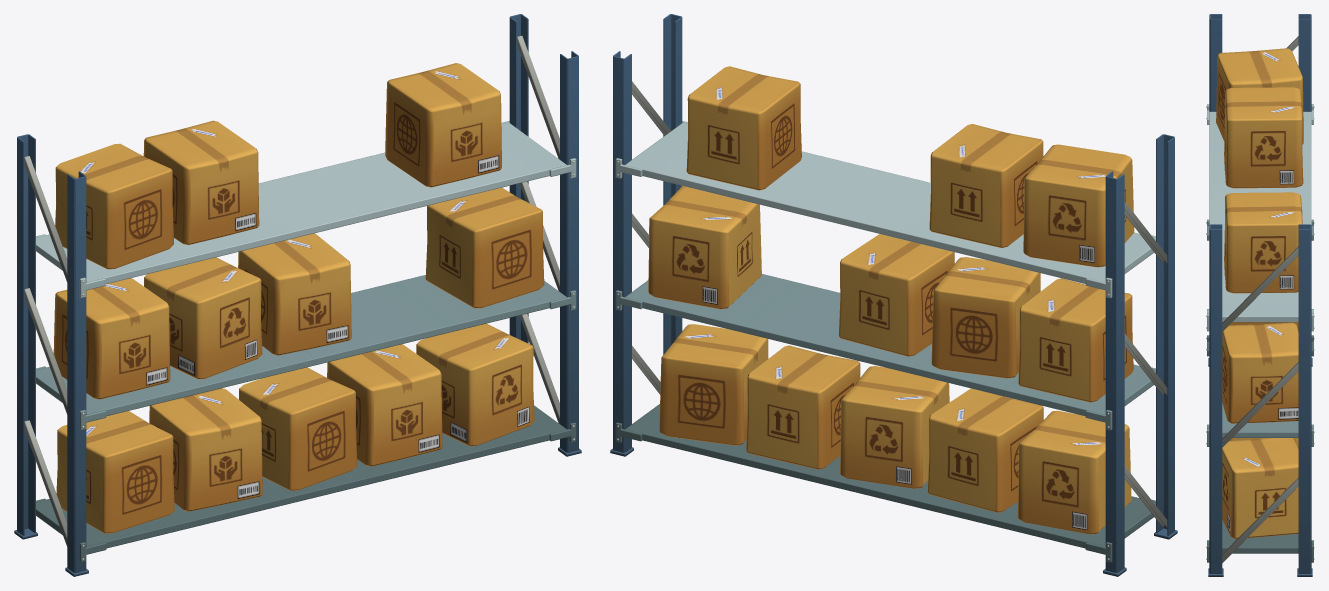
Rendered from SM_storage_rack_4x3_full.fbx.
3 views of the same model, side by side, from view 1: azimuth 30°, elevation 25°; view 2: azimuth 150°, elevation 25°; view 3: azimuth 270°, elevation 25° (orthographic). The views are drawn at different scales.
Parts seen in each view (by area): view 1: Plane.001, SM_storage_rack_4x3_full, casual_box_closed.011, casual_box_closed.008, casual_box_closed.009, casual_box_closed.002, casual_box_closed.004, casual_box_closed.006, casual_box_closed.001, casual_box_closed, casual_box_closed.007, casual_box_closed.010 (+4 smaller); view 2: Plane.001, SM_storage_rack_4x3_full, casual_box_closed.011, casual_box_closed.008, casual_box_closed.003, casual_box_closed.010, casual_box_closed.007, casual_box_closed.001, casual_box_closed.002, casual_box_closed.004, casual_box_closed.006, casual_box_closed.009 (+4 smaller); view 3: SM_storage_rack_4x3_full, Plane.001, casual_box_closed.010, casual_box_closed.011, casual_box_closed.008, casual_box_closed.004, casual_box_closed.009, SM_storage_rack_4x3_full.001, Plane.002, Plane.003, casual_box_closed.007.
Part boxes in pixels (x1,y1,x2,y2): Plane.001: (36,122,566,548); SM_storage_rack_4x3_full: (17,14,578,572); casual_box_closed.011: (385,63,501,187); casual_box_closed.008: (425,187,544,308); casual_box_closed.009: (55,143,173,269); casual_box_closed.002: (239,367,357,490); casual_box_closed.004: (416,323,534,446); casual_box_closed.006: (144,257,262,379); casual_box_closed.001: (149,388,262,511); casual_box_closed: (56,411,174,533); casual_box_closed.007: (238,233,351,355); casual_box_closed.010: (143,120,259,244); Plane.001: (625,122,1155,548); SM_storage_rack_4x3_full: (613,14,1174,572); casual_box_closed.011: (686,66,801,190); casual_box_closed.008: (648,186,761,309); casual_box_closed.003: (746,345,860,469); casual_box_closed.010: (929,124,1043,247); casual_box_closed.007: (839,234,954,356); casual_box_closed.001: (927,388,1043,512); casual_box_closed.002: (840,366,949,488); casual_box_closed.004: (659,324,768,445); casual_box_closed.006: (931,257,1040,378); casual_box_closed.009: (1023,144,1134,267); SM_storage_rack_4x3_full: (1209,14,1311,573); Plane.001: (1209,111,1311,553); casual_box_closed.010: (1224,87,1303,188); casual_box_closed.011: (1224,192,1302,293); casual_box_closed.008: (1222,322,1298,423); casual_box_closed.004: (1222,438,1298,538); casual_box_closed.009: (1216,48,1303,144); SM_storage_rack_4x3_full.001: (1222,36,1298,562); Plane.002: (1207,104,1313,562); Plane.003: (1208,358,1312,576); casual_box_closed.007: (1229,322,1298,330).
Bounding box in the file's own units: 402 × 300 × 85.01.
